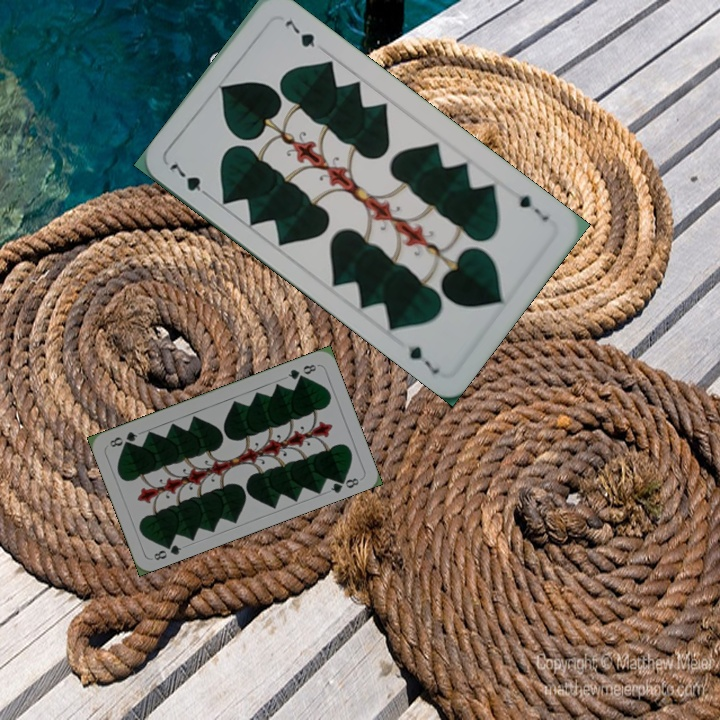G7: (165, 159, 214, 202), (509, 186, 552, 224)
G8: (150, 538, 184, 563), (284, 360, 321, 382)
